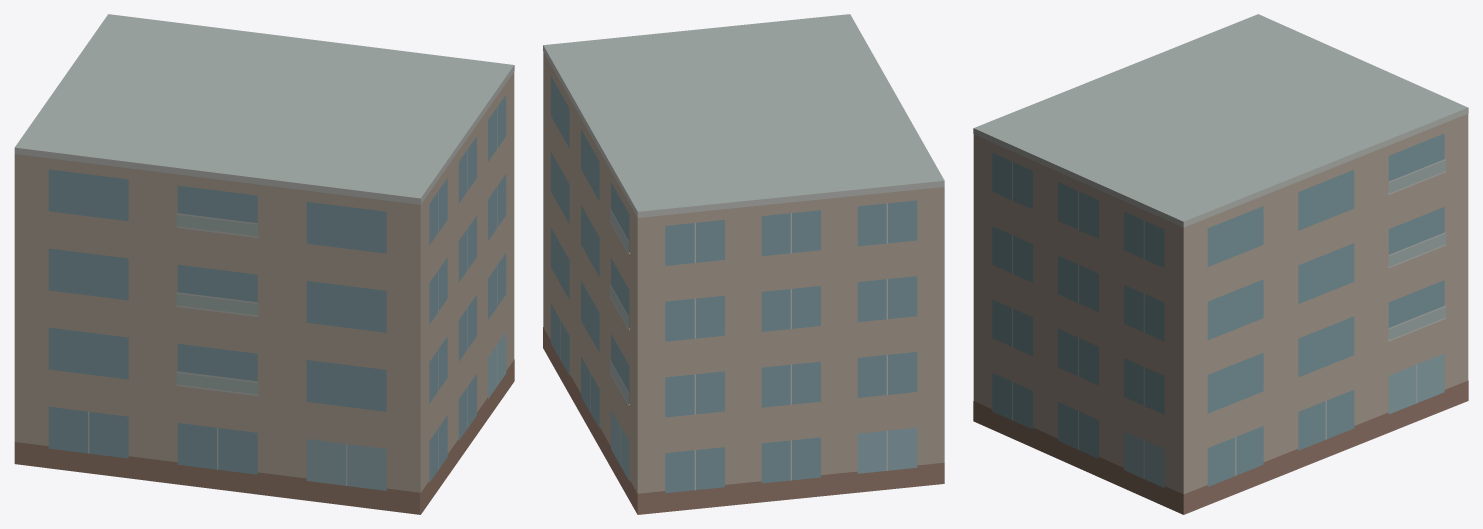
File: residential-d54e751b-7757-4a2f-97ad-84f0670e9cdc.glb
3 renders of one model, left to right at view 1: azimuth 30°, elevation 25°; view 2: azimuth 150°, elevation 25°; view 3: azimuth 270°, elevation 25°, orthographic. The views are drawn at different scales.
Visible parts, largest first — view 1: residential-d54e751b-7757-4a2f-97ad-84f0670e9cdc.tmp; view 2: residential-d54e751b-7757-4a2f-97ad-84f0670e9cdc.tmp; view 3: residential-d54e751b-7757-4a2f-97ad-84f0670e9cdc.tmp.
Part boxes in pixels (bbox=[...]): residential-d54e751b-7757-4a2f-97ad-84f0670e9cdc.tmp: bbox=[14, 14, 514, 514]; residential-d54e751b-7757-4a2f-97ad-84f0670e9cdc.tmp: bbox=[543, 14, 944, 514]; residential-d54e751b-7757-4a2f-97ad-84f0670e9cdc.tmp: bbox=[973, 14, 1468, 514].
Size of the model in its own units: 18.55 by 12.2 by 18.68.
